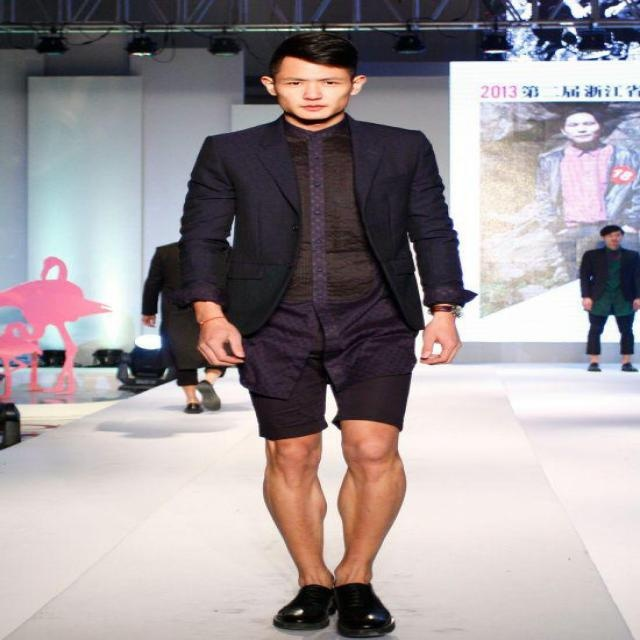obstacle: (134, 19, 496, 640)
